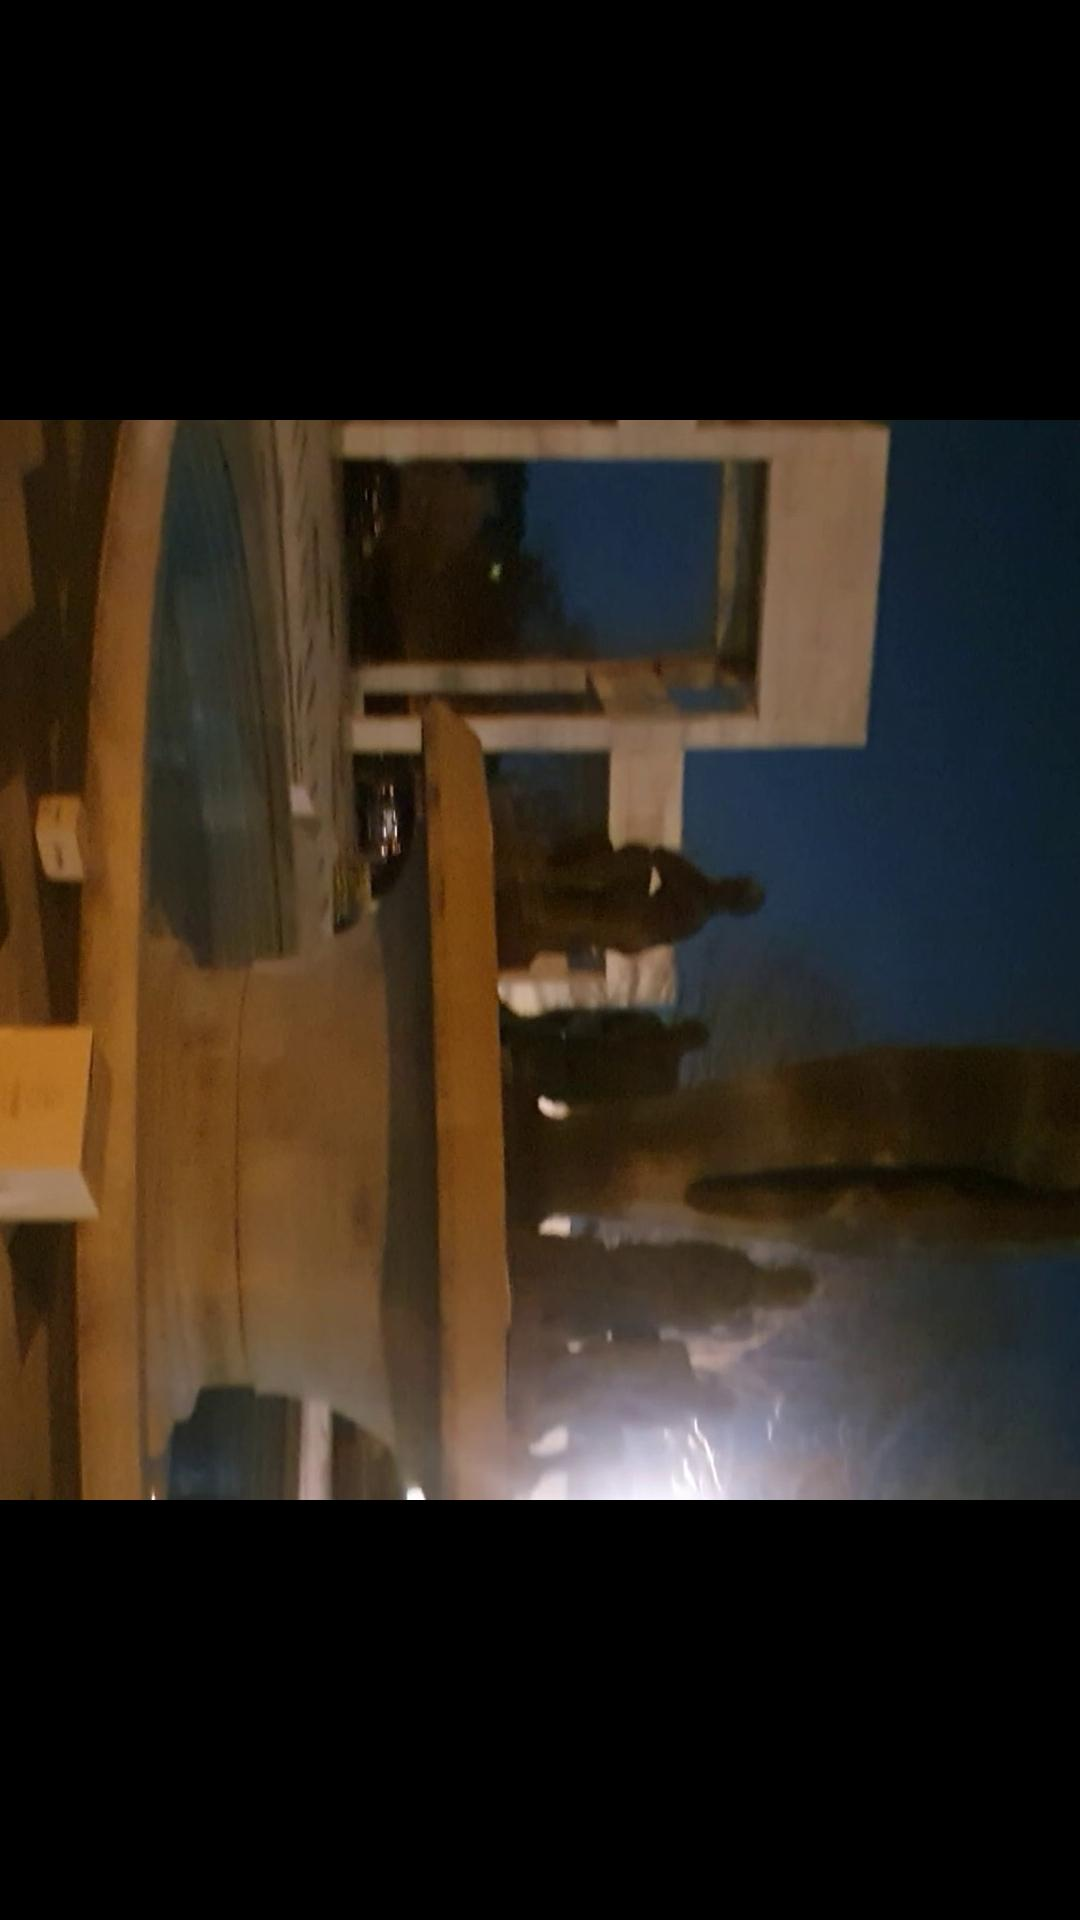Box: (0, 1013, 120, 1226), (25, 789, 115, 887)
